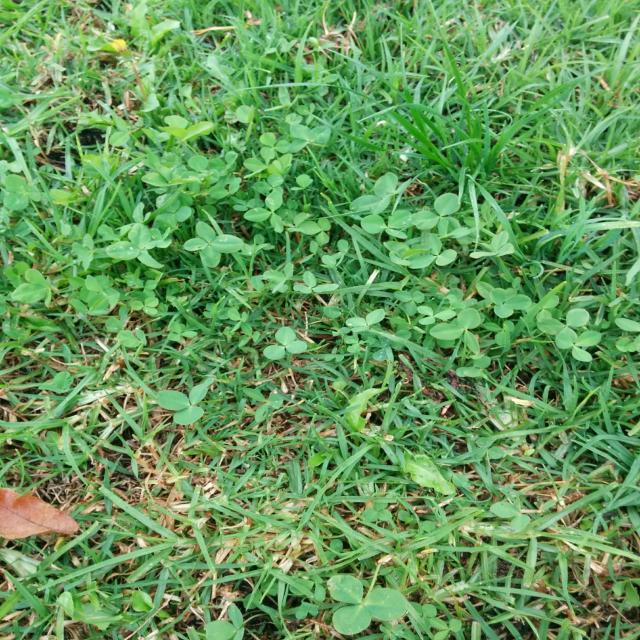Four Leaf Clover: (183, 221, 244, 268), (145, 227, 172, 250)
